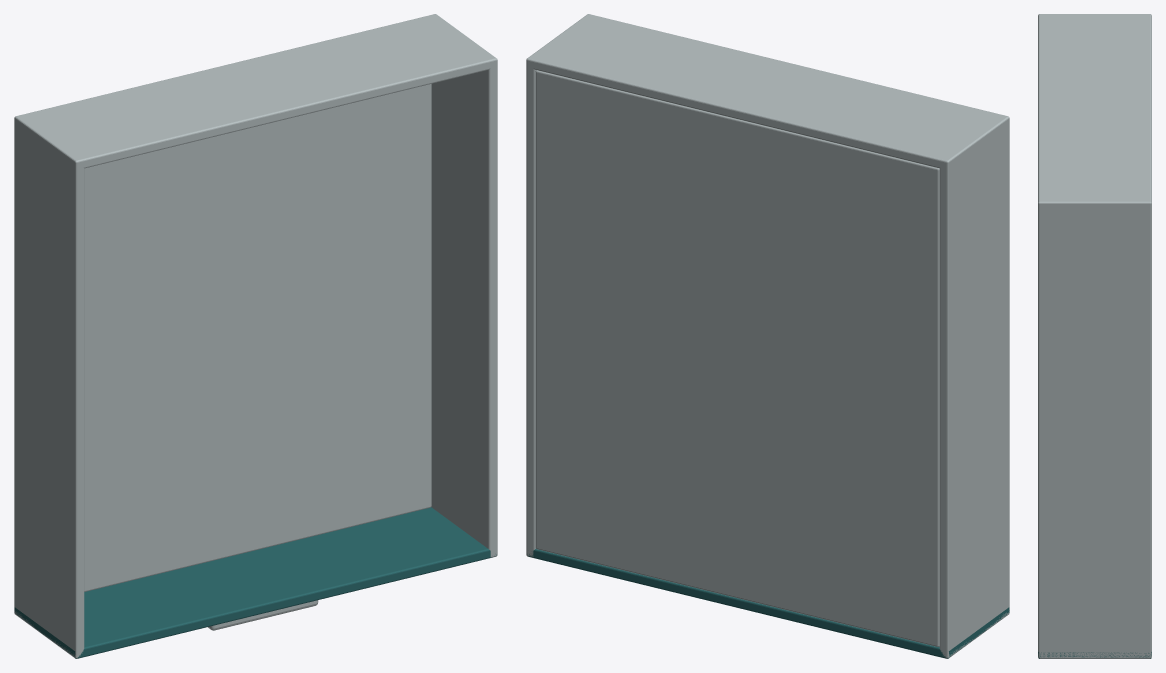
Rendered from drawer.glb.
3 renders of one model, left to right at view 1: azimuth 30°, elevation 25°; view 2: azimuth 150°, elevation 25°; view 3: azimuth 270°, elevation 25°, orthographic. The views are drawn at different scales.
Visible parts, largest first — view 1: Drawer floor, Drawer side, Drawer side.001, Drawer back, Drawer face; view 2: Drawer floor, Drawer side, Drawer back, Drawer side.001, Drawer face; view 3: Drawer side.001, Drawer back, Drawer side, Drawer face.
Part boxes in pixels (x1,y1,x2,y2): Drawer floor: [84, 84, 431, 591]; Drawer side: [14, 115, 84, 658]; Drawer side.001: [429, 14, 497, 557]; Drawer back: [14, 14, 497, 169]; Drawer face: [14, 507, 496, 658]; Drawer floor: [535, 70, 939, 646]; Drawer side: [939, 115, 1009, 658]; Drawer back: [526, 14, 1009, 168]; Drawer side.001: [526, 14, 594, 557]; Drawer face: [527, 549, 1009, 658]; Drawer side.001: [1038, 199, 1151, 658]; Drawer back: [1038, 14, 1151, 209]; Drawer side: [1038, 14, 1151, 17]; Drawer face: [1038, 652, 1151, 658].
Bounding box in the file's own units: 0.55 × 0.653 × 0.14.
